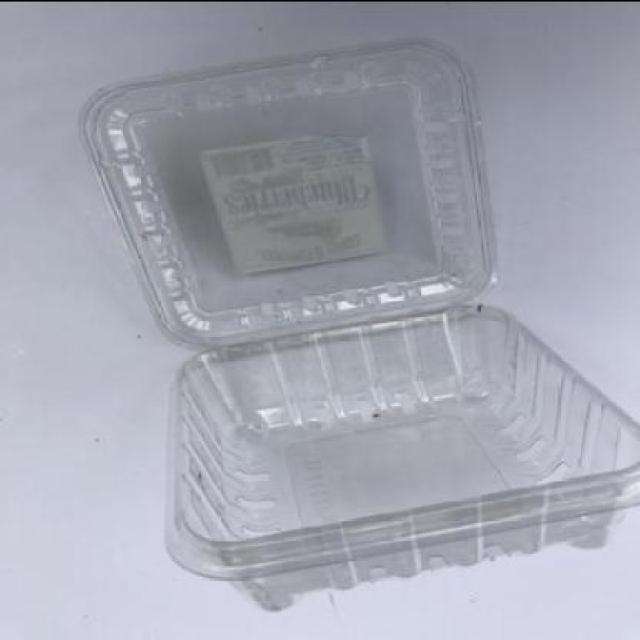PLASTIC: (80, 38, 638, 612), (166, 300, 639, 612), (82, 40, 503, 348)
